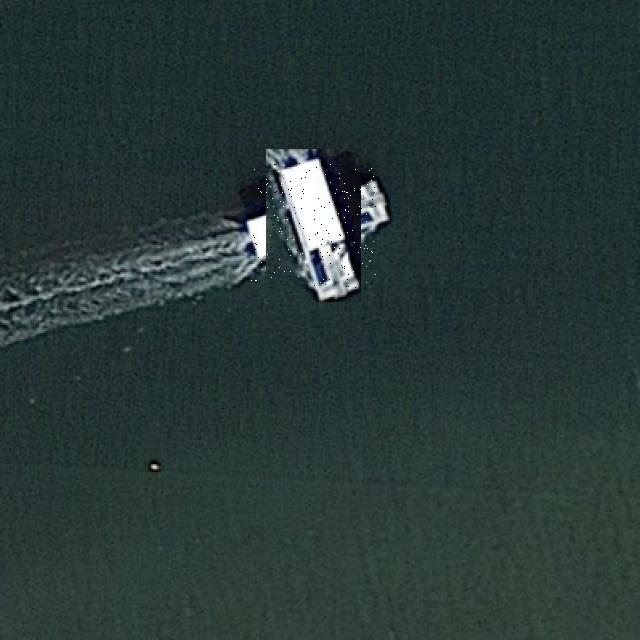boat: (251, 163, 376, 288)
